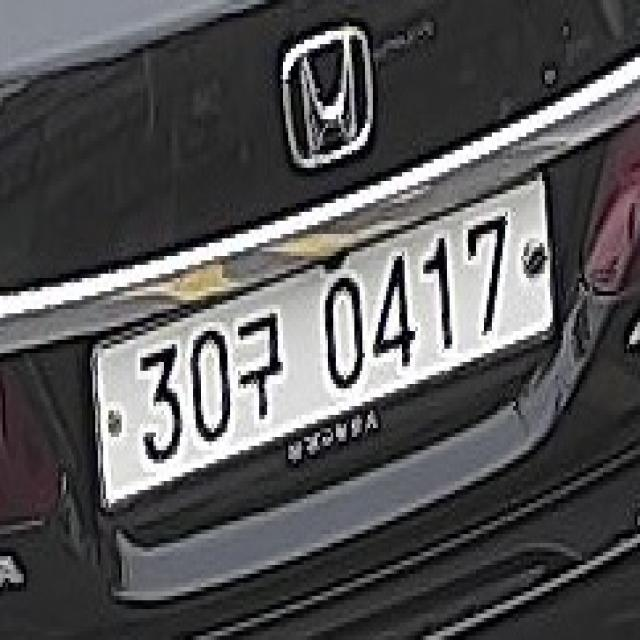0: (320, 269, 365, 384), (188, 327, 227, 437)
1: (418, 234, 455, 353)
3: (138, 340, 182, 459)
4: (373, 252, 420, 371)
7: (466, 216, 510, 340)
gu: (235, 309, 283, 419)
license_plate: (82, 159, 555, 516)
